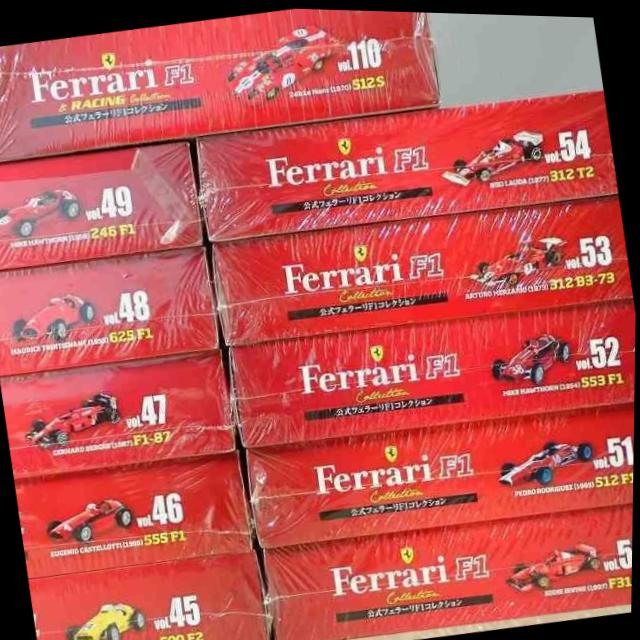box: (0, 7, 440, 162), (213, 190, 633, 344), (198, 86, 618, 237), (230, 297, 636, 445), (250, 400, 636, 545), (262, 502, 634, 640), (0, 348, 239, 479), (16, 453, 257, 580), (0, 245, 222, 374), (0, 140, 206, 272), (30, 550, 270, 640)
